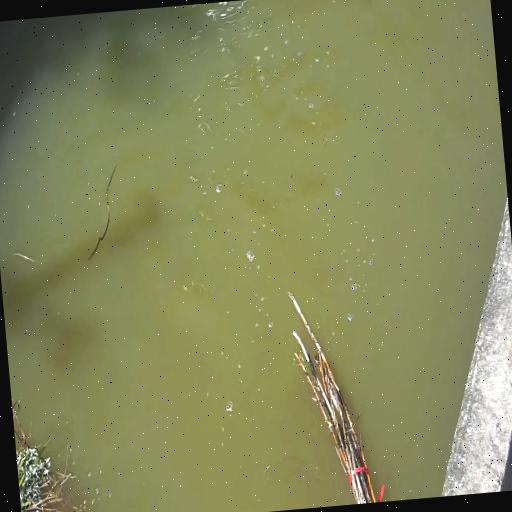twig: (283, 285, 384, 509), (12, 395, 77, 512)
